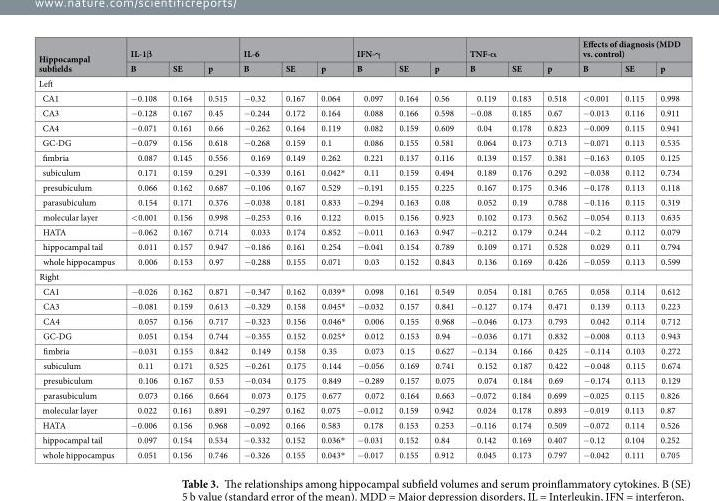table: (37, 37, 679, 461)
table column: (37, 37, 121, 461), (121, 37, 164, 461), (235, 37, 277, 461), (461, 37, 503, 461), (574, 37, 616, 461), (350, 37, 390, 461), (312, 37, 350, 461), (199, 37, 235, 461), (390, 37, 426, 461), (538, 37, 574, 461), (164, 37, 199, 461), (277, 37, 312, 461), (426, 37, 461, 461), (503, 37, 538, 461), (616, 37, 651, 461), (651, 37, 679, 461)
table column header: (37, 37, 679, 75)
table projected row header: (37, 75, 679, 90), (37, 268, 679, 283)
table row: (37, 37, 679, 60), (37, 431, 679, 447), (37, 60, 679, 75), (37, 75, 679, 90), (37, 90, 679, 105), (37, 119, 679, 134), (37, 134, 679, 149), (37, 149, 679, 164), (37, 164, 679, 179), (37, 179, 679, 194), (37, 194, 679, 209), (37, 209, 679, 224), (37, 238, 679, 253), (37, 253, 679, 268), (37, 268, 679, 283), (37, 283, 679, 298), (37, 298, 679, 313), (37, 313, 679, 328), (37, 328, 679, 343), (37, 357, 679, 372), (37, 372, 679, 387), (37, 387, 679, 402), (37, 402, 679, 417), (37, 105, 679, 119), (37, 224, 679, 238), (37, 343, 679, 357), (37, 417, 679, 431), (37, 447, 679, 461)
table spanning cell: (37, 37, 121, 75), (235, 37, 350, 60), (121, 37, 235, 60), (461, 37, 574, 60), (350, 37, 461, 60), (574, 37, 679, 60)
